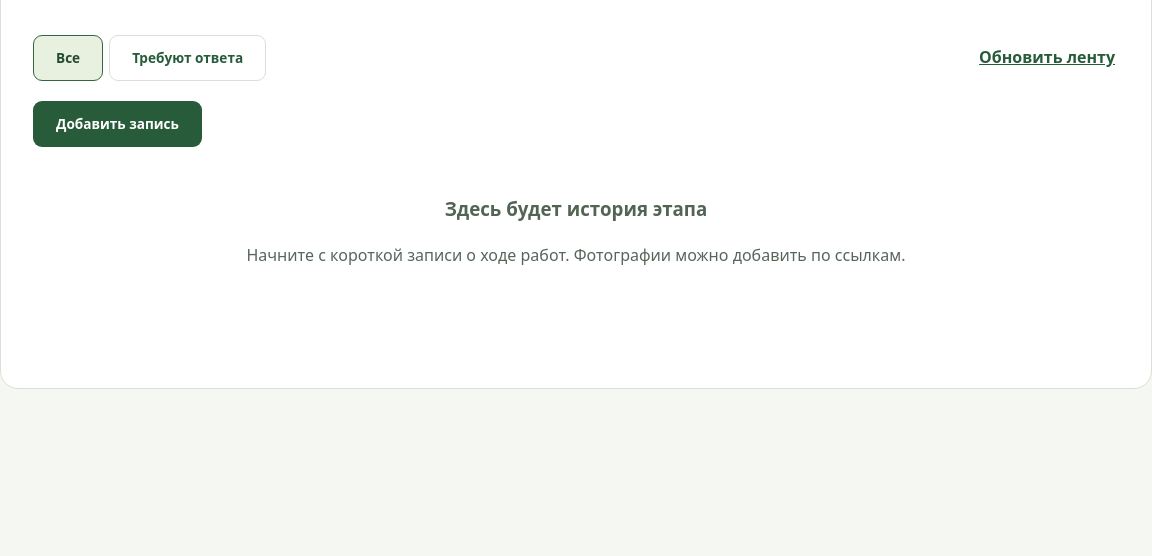
Test: Лента этапа › После сетевого сбоя сохраняет текст и повторяет публикацию с прежним ключом
The width and height of the screenshot is (1152, 556).
Expected: the heading "Здесь будет история этапа" is shown, [445,196,707,221]
Click the button "Добавить запись" at (118, 124), box [33,101,202,147]
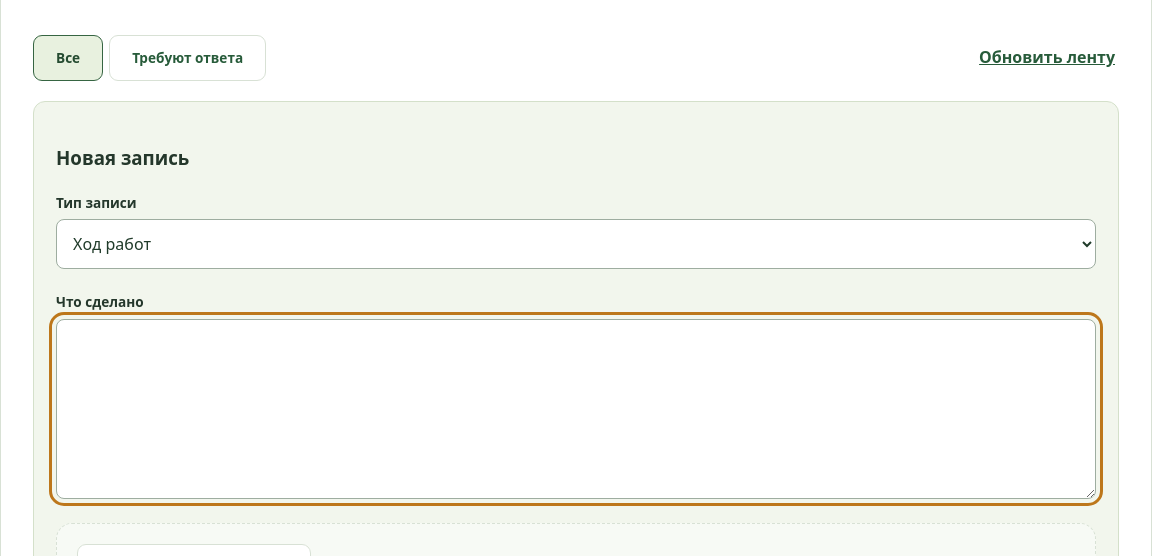
Type "Опалубка готова" into the text box labelled "Что сделано" at (576, 409), box [56,319,1096,499]
(page scrolled)
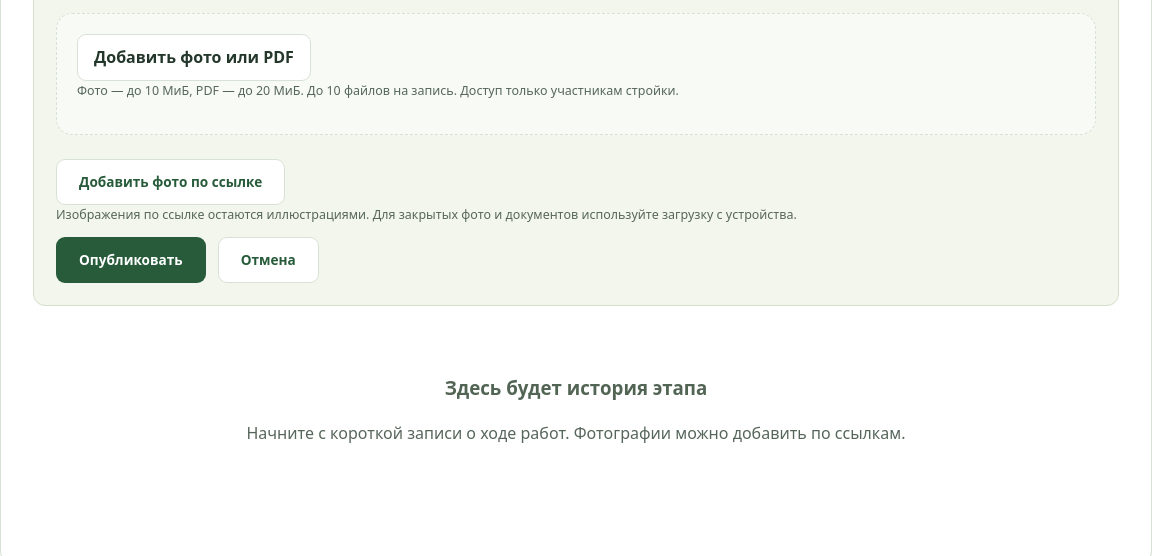
Click the button "Опубликовать" at (131, 260), box [56,237,206,283]
(page scrolled)
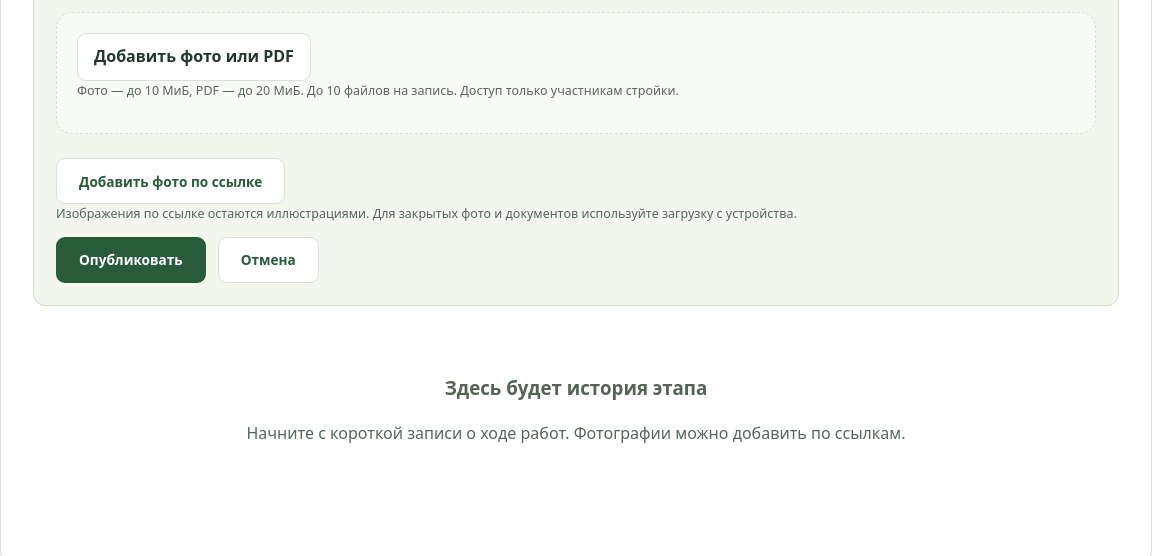
Click the button "Опубликовать" at (131, 260), box [56,237,206,283]
(page scrolled)
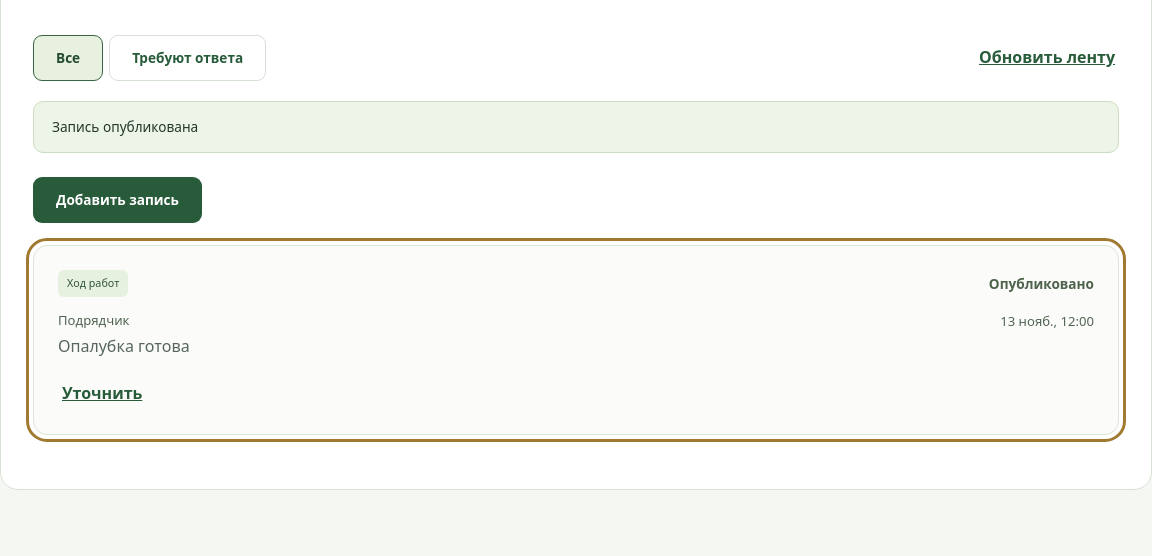
Expected: the text "Запись опубликована" is shown, [33,101,1119,153]
